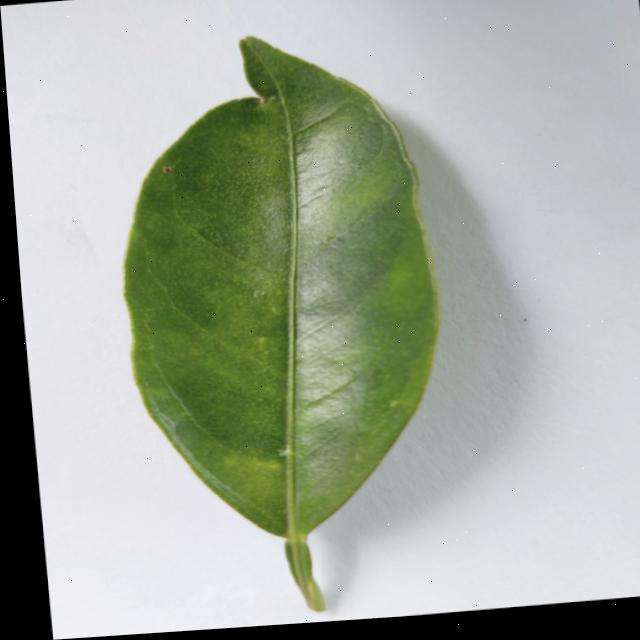greening: (124, 37, 436, 610)
